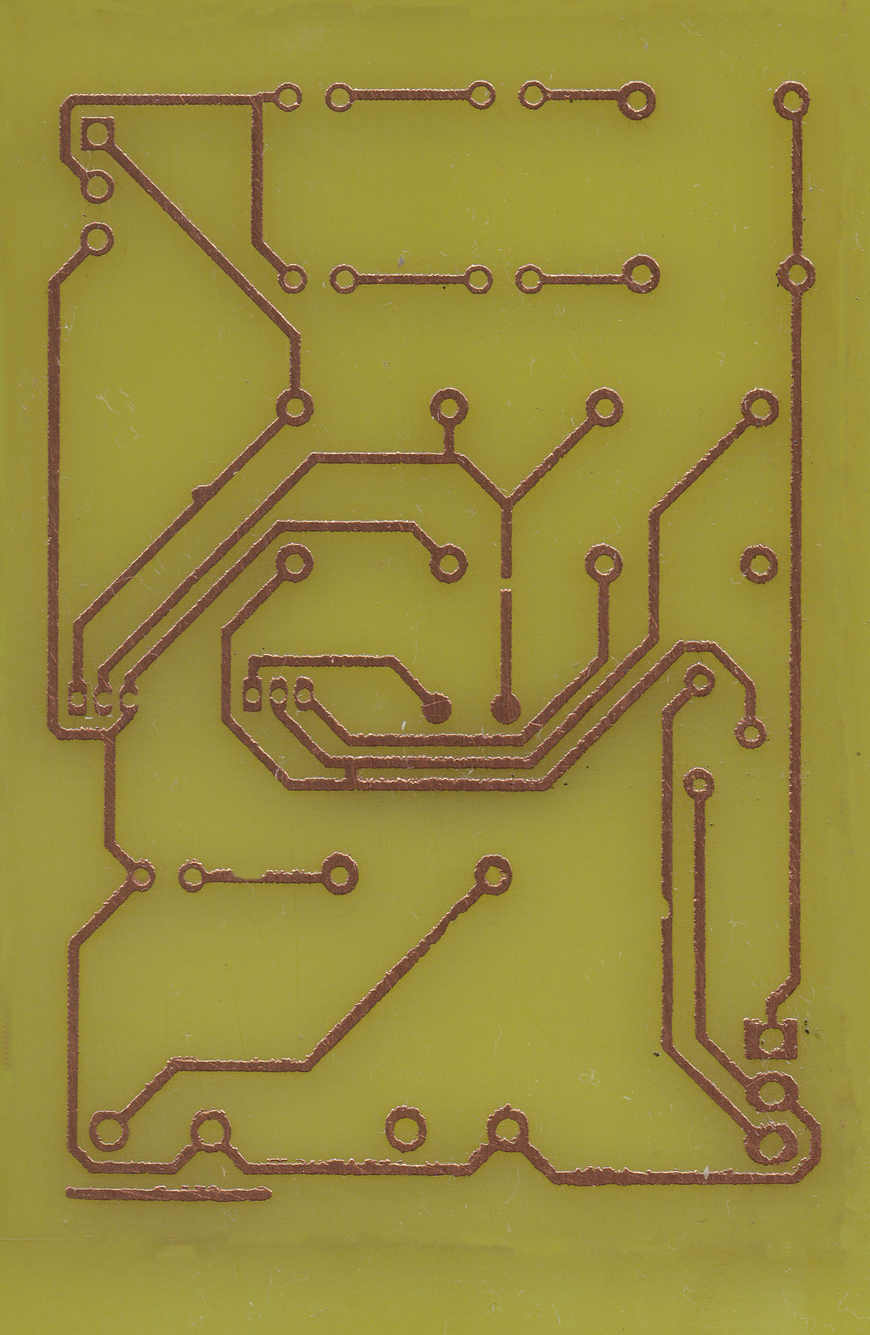missing_hole: (117, 684, 142, 718), (90, 684, 115, 718)
mouse_bite: (228, 863, 272, 886), (656, 891, 676, 928)
open_circuit: (498, 567, 516, 601)
short: (339, 756, 367, 793)
spur: (189, 481, 215, 509)
spurious_copper: (62, 1179, 278, 1209)
